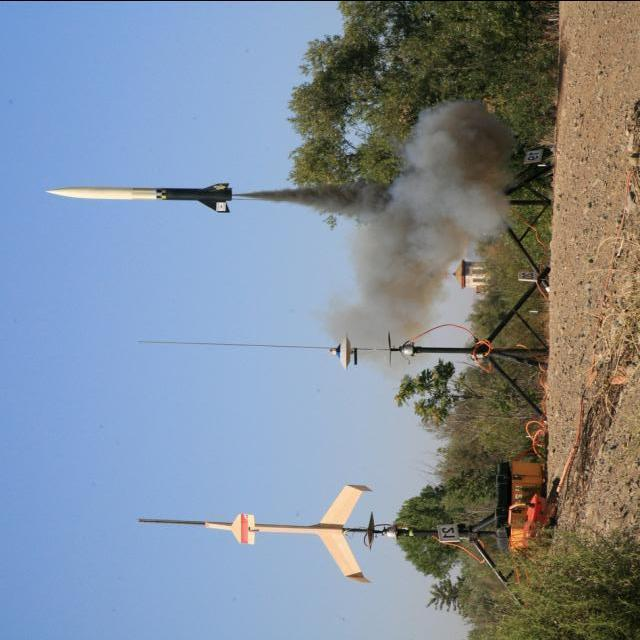missile: (45, 179, 233, 219)
